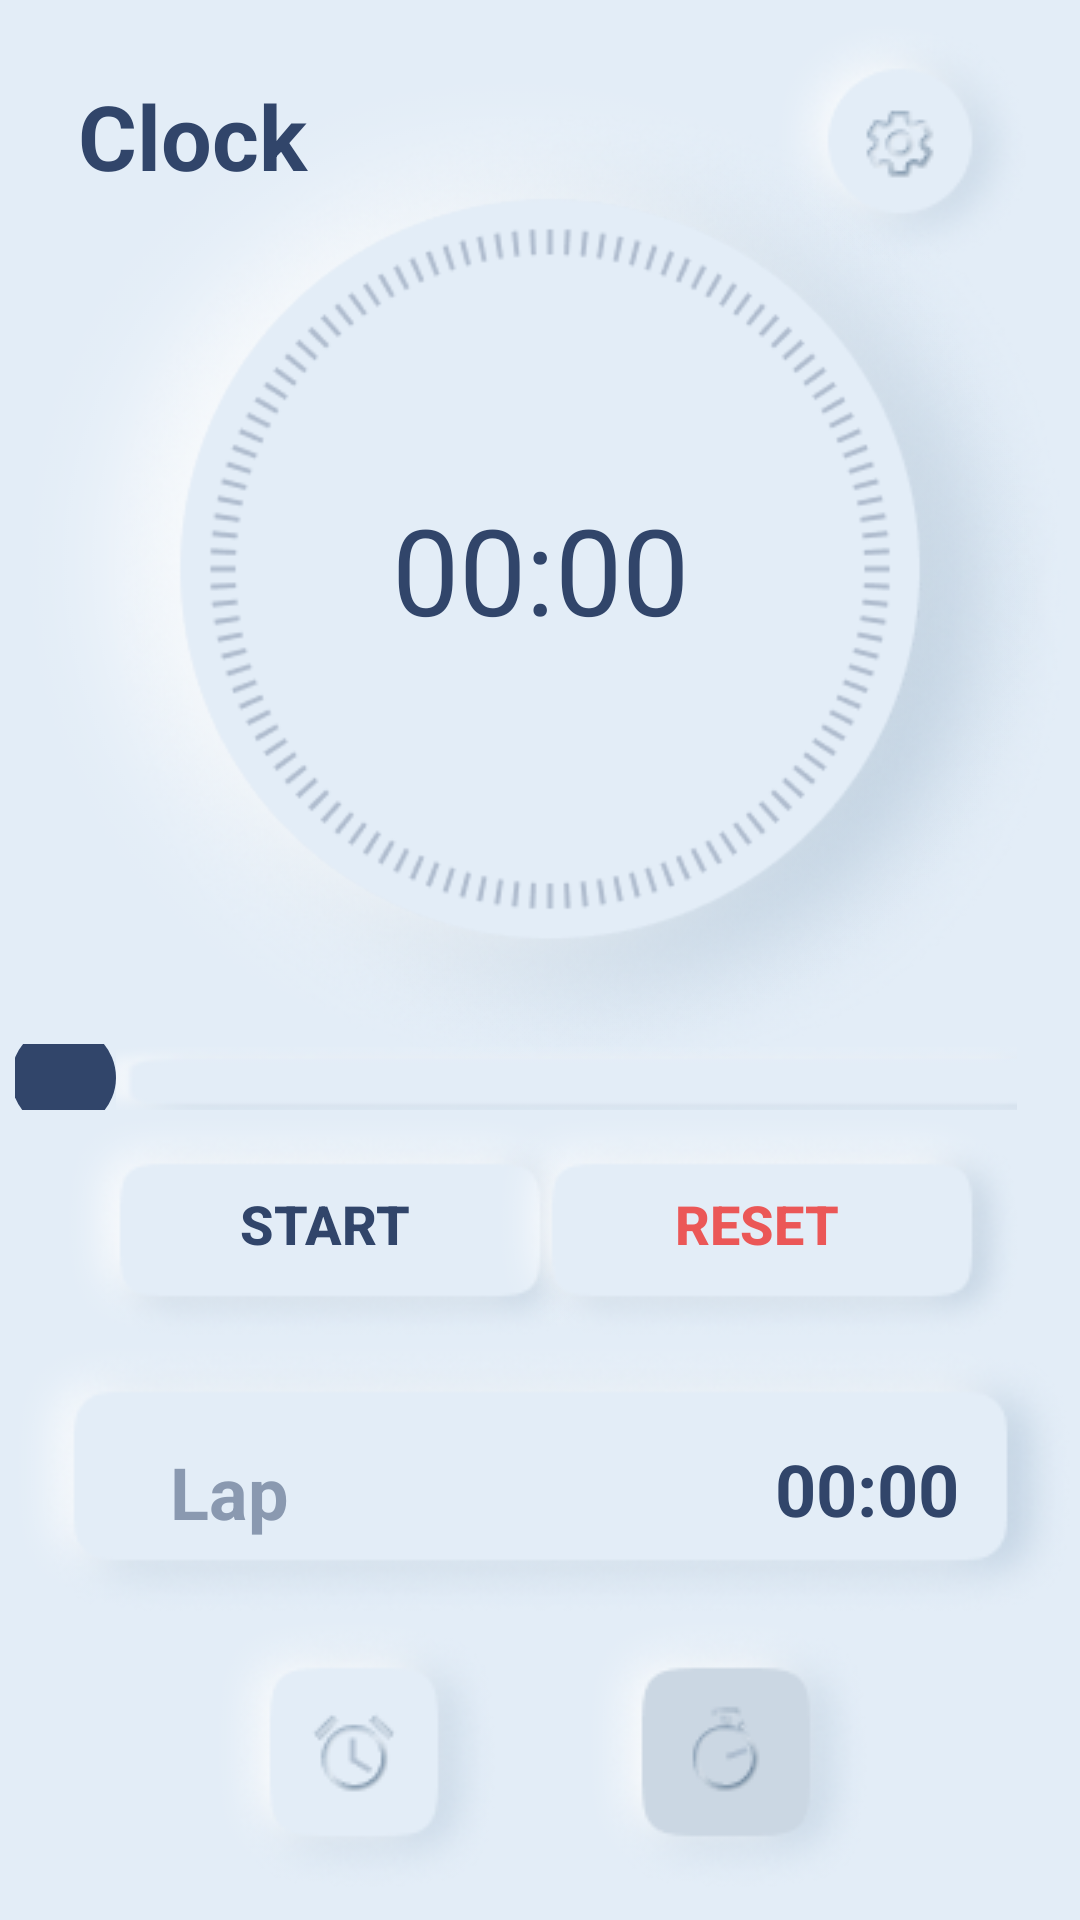

Locate icon controls on the screen. Image size 1080 x 1920, boxes as (x1, y1, x2, y2).
alarmicon: (315, 1716, 393, 1791)
settings: (867, 110, 933, 177)
stopwatch: (621, 1660, 842, 1857)
